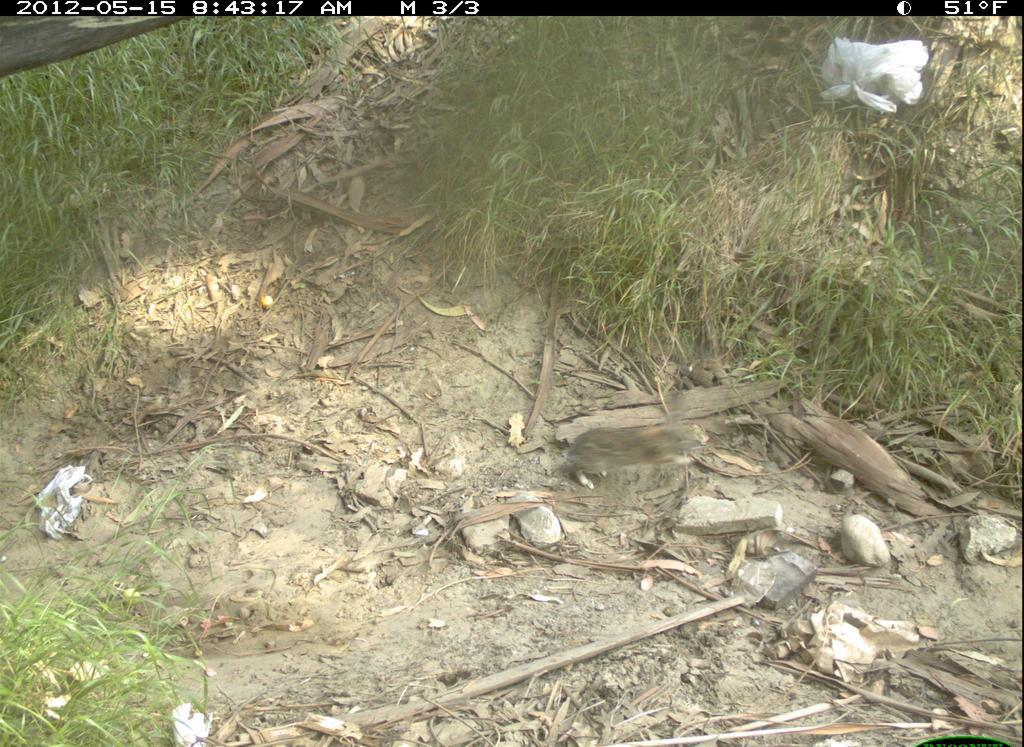rabbit: (565, 409, 722, 492)
